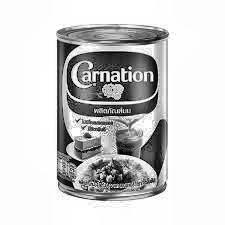can: (42, 15, 182, 214)
